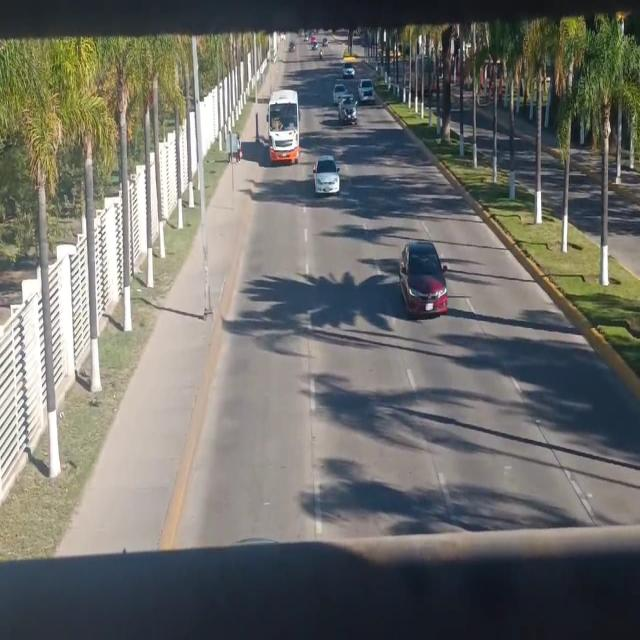Auto: (396, 238, 450, 318), (314, 154, 340, 196), (336, 94, 358, 123), (357, 82, 375, 105), (333, 83, 349, 105), (341, 60, 357, 82)
Autobus: (269, 87, 300, 165)
